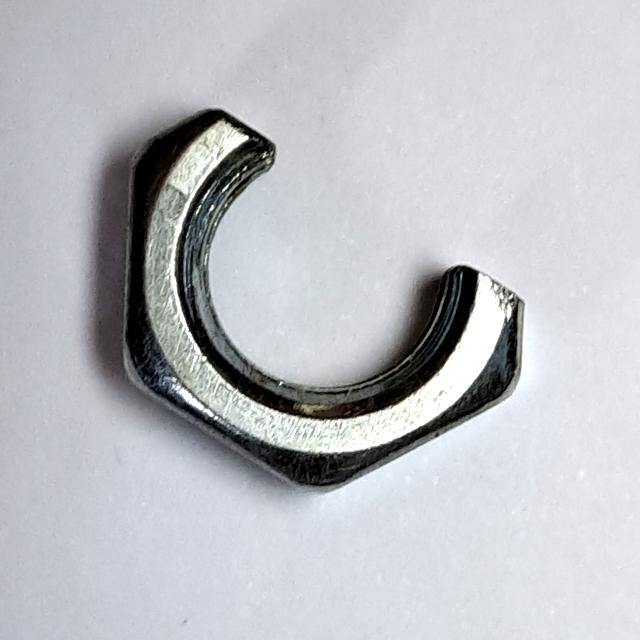Fracture: (106, 94, 547, 513)
